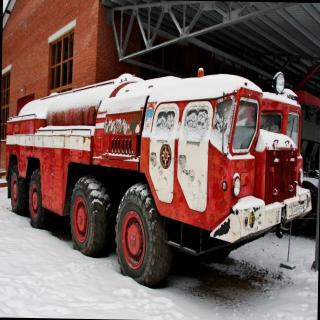Fire_truck: (3, 64, 314, 290)
